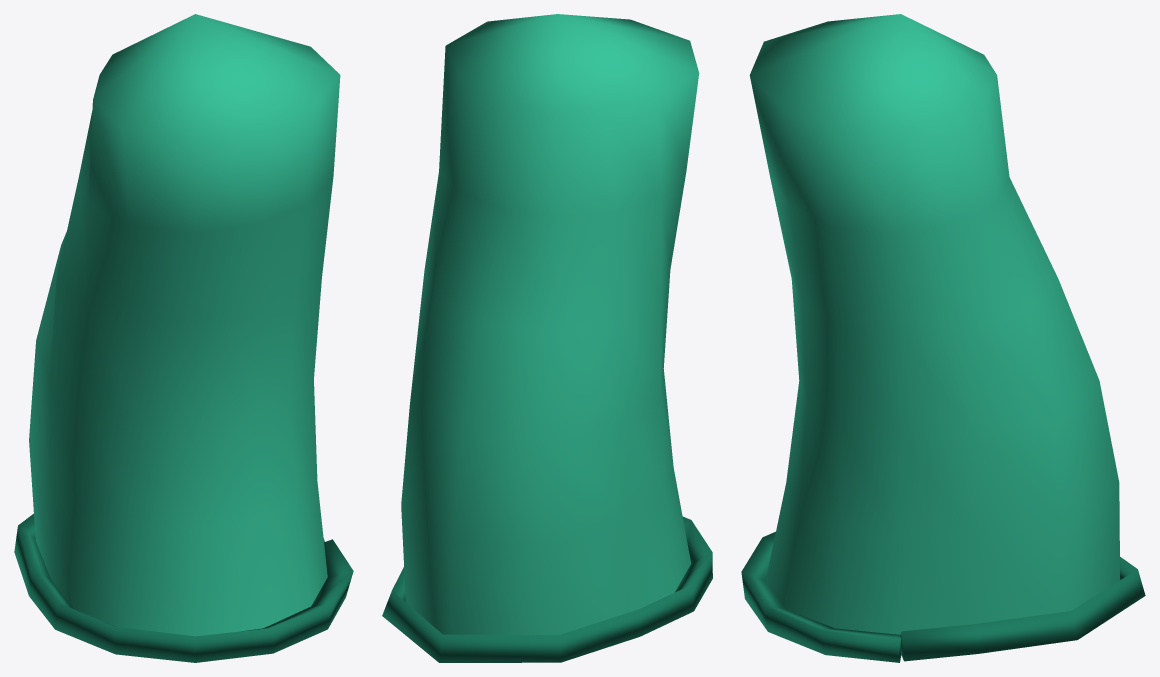
Rendered from mythril_armor_boot.R.glb.
3 renders of one model, left to right at view 1: azimuth 30°, elevation 25°; view 2: azimuth 150°, elevation 25°; view 3: azimuth 270°, elevation 25°, orthographic. The views are drawn at different scales.
Parts seen in each view (by area): view 1: mythril_armor_boot.R; view 2: mythril_armor_boot.R; view 3: mythril_armor_boot.R.
Part boxes in pixels (x1=…): mythril_armor_boot.R: x1=14, y1=14, x2=353, y2=662; mythril_armor_boot.R: x1=382, y1=14, x2=712, y2=662; mythril_armor_boot.R: x1=741, y1=14, x2=1145, y2=662.
Size of the model in its own units: 0.147 by 0.2958 by 0.1849.
